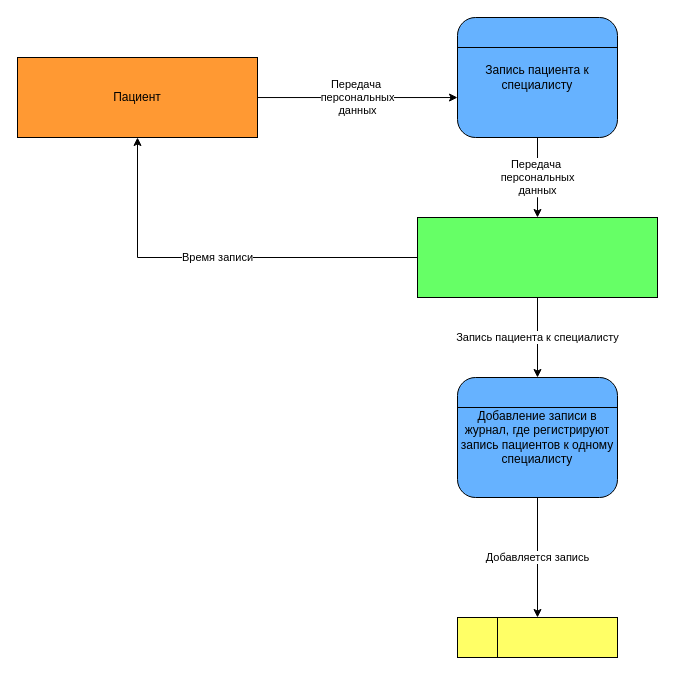
The diagram is 675 pixels wide and 676 high, and some of its shapes have lost their labels. Each missing label, with the centre of its shape:
"Excel файл: журнал" goes at point 537,637.
"Сотрудник на рессепшене" goes at point 537,257.
